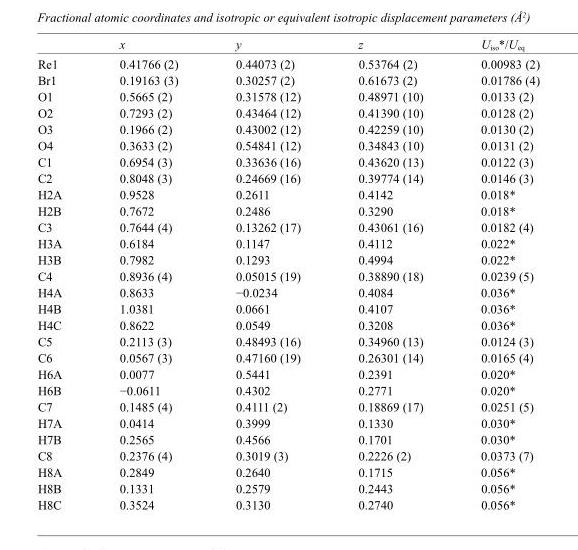table: (36, 37, 539, 511)
table column: (328, 37, 451, 511), (206, 37, 328, 511), (90, 37, 206, 511), (451, 37, 539, 511), (36, 37, 90, 511)
table column header: (36, 37, 539, 54)
table row: (36, 37, 539, 54), (36, 54, 539, 71), (36, 71, 539, 88), (36, 120, 539, 137), (36, 169, 539, 186), (36, 218, 539, 235), (36, 267, 539, 284), (36, 316, 539, 333), (36, 365, 539, 382), (36, 414, 539, 431), (36, 463, 539, 480), (36, 88, 539, 104), (36, 104, 539, 120), (36, 137, 539, 153), (36, 153, 539, 169), (36, 186, 539, 202), (36, 202, 539, 218), (36, 235, 539, 251), (36, 251, 539, 267), (36, 284, 539, 300), (36, 300, 539, 316), (36, 333, 539, 349), (36, 349, 539, 365), (36, 382, 539, 398), (36, 398, 539, 414), (36, 431, 539, 447), (36, 447, 539, 463), (36, 480, 539, 496), (36, 496, 539, 511)
